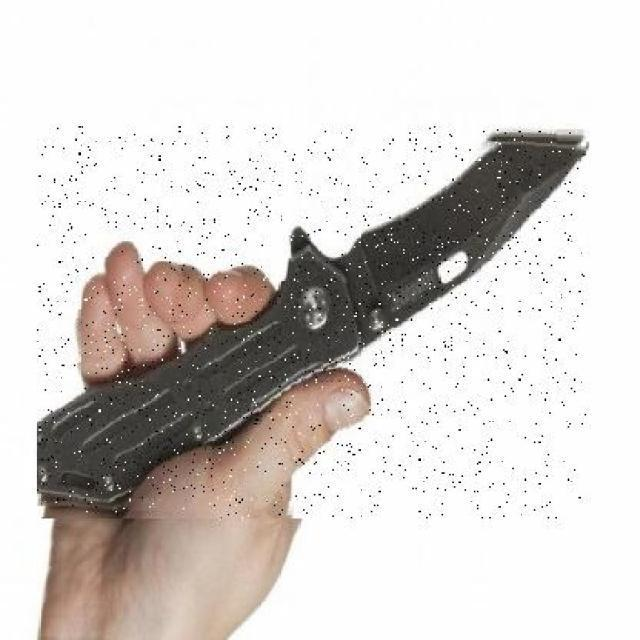knife: (37, 126, 586, 519)
